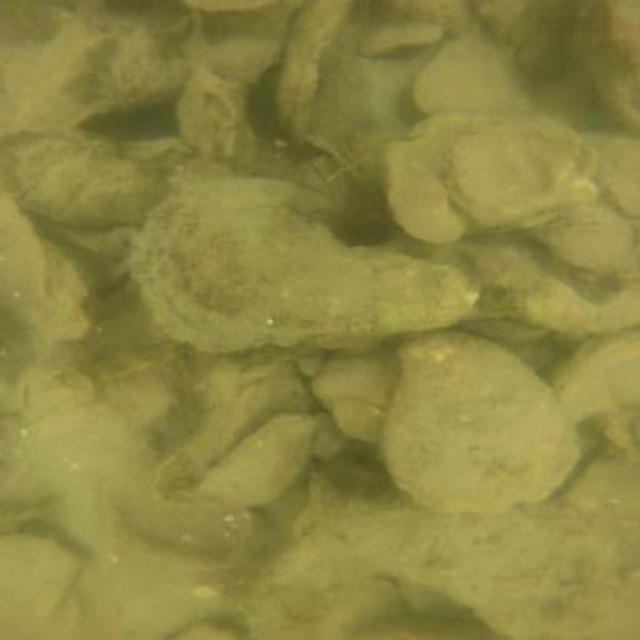Oyster-Closed: (130, 173, 473, 350), (236, 496, 638, 640), (381, 330, 577, 515), (156, 358, 313, 510), (456, 122, 600, 237), (0, 124, 165, 224), (377, 114, 499, 244), (199, 413, 310, 507), (415, 33, 528, 113), (573, 1, 637, 136), (552, 330, 637, 431), (248, 577, 398, 634), (3, 531, 76, 640), (546, 216, 639, 277), (310, 342, 397, 404)
